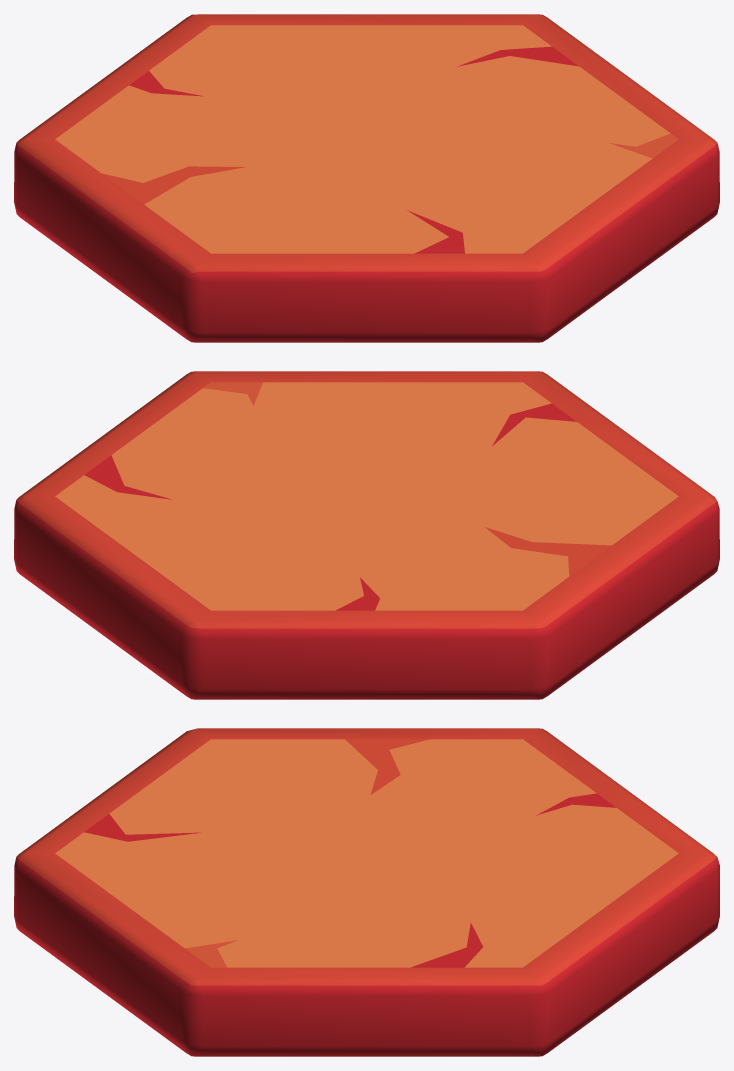
The model's file is Platform red 2.fbx.
The picture shows the model from 3 angles, top to bottom: view 1: azimuth 30°, elevation 25°; view 2: azimuth 150°, elevation 25°; view 3: azimuth 270°, elevation 25°; orthographic projection.
Visible parts, largest first — view 1: Platform red 2; view 2: Platform red 2; view 3: Platform red 2.
Boxes of the visible parts, <box> form: Platform red 2: <box>14,14,719,342</box>; Platform red 2: <box>14,371,719,699</box>; Platform red 2: <box>14,728,719,1056</box>.
Size of the model in its own units: 625 by 83.5 by 715.
